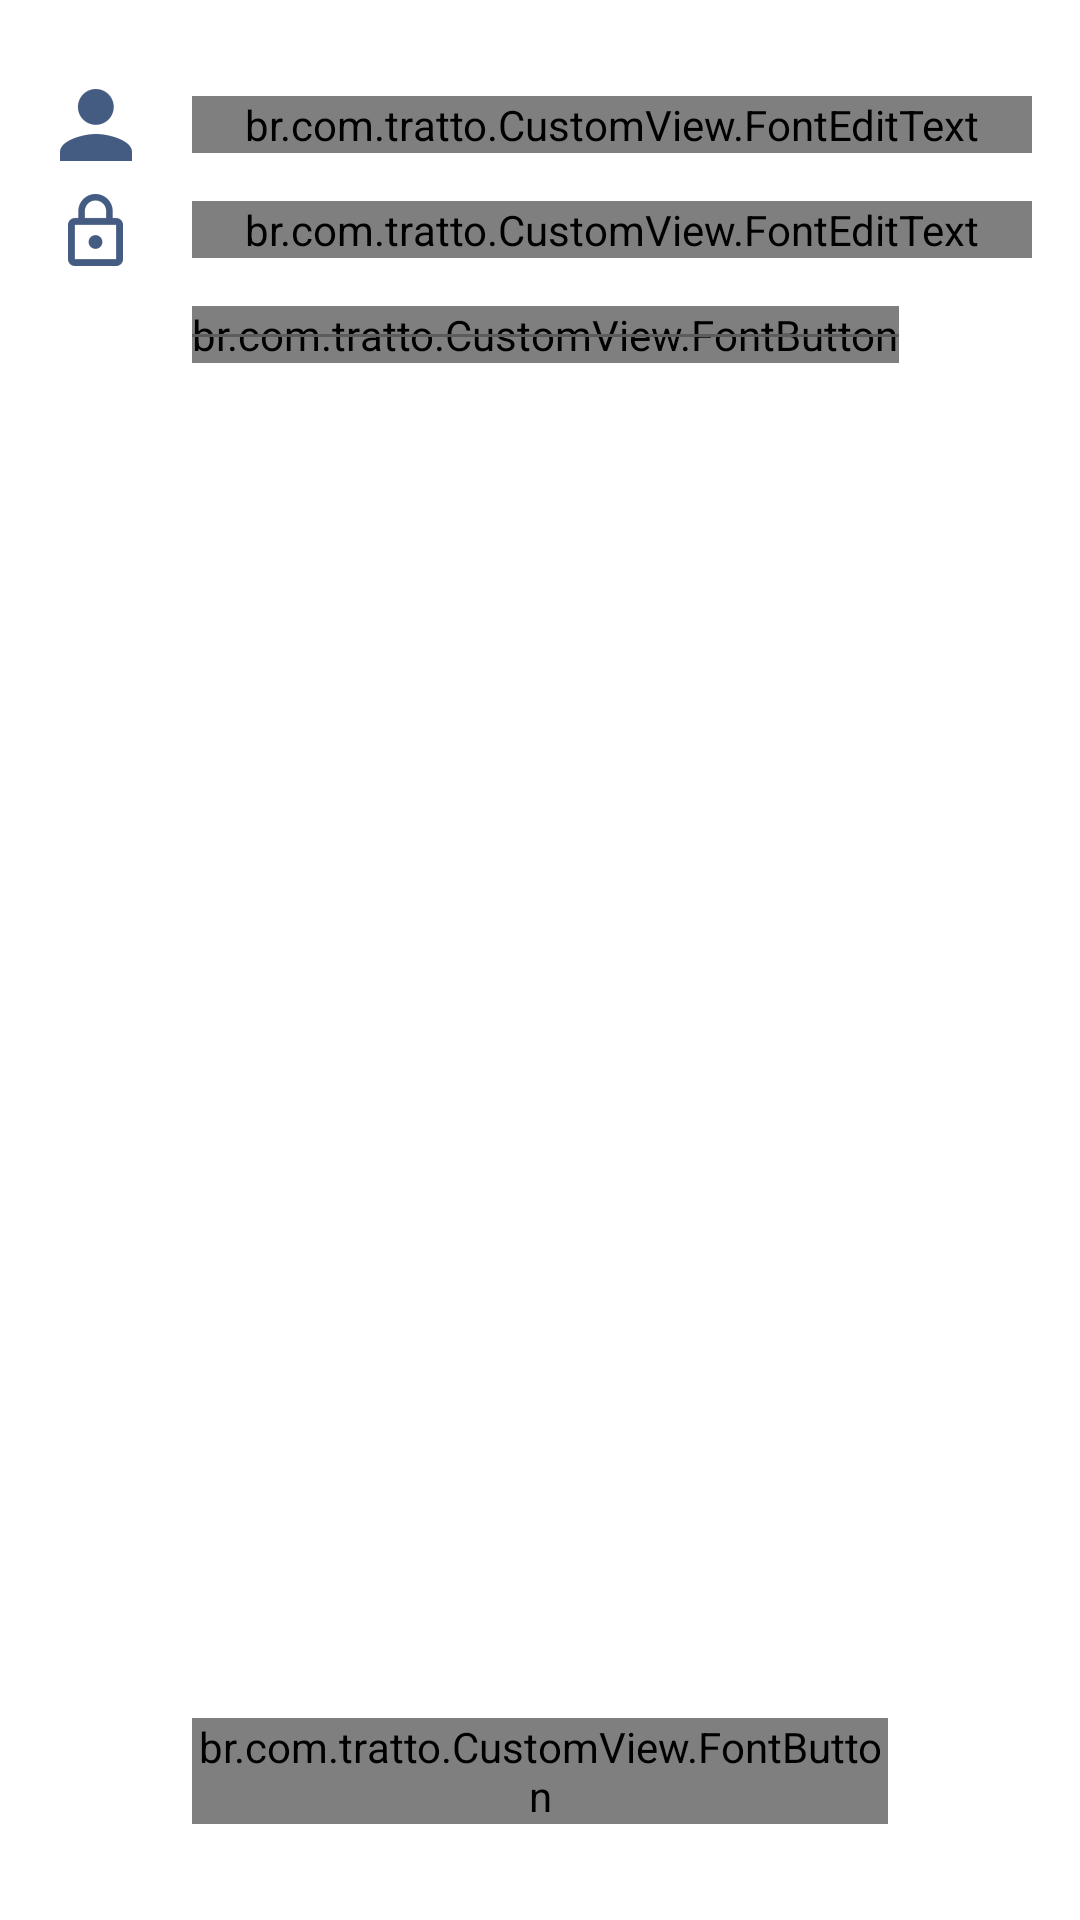

Where icons sit on this 1080 x 1920 app screen, as (x1, y1, x2, y2):
pass: (68, 194, 123, 266)
user: (60, 89, 132, 161)
